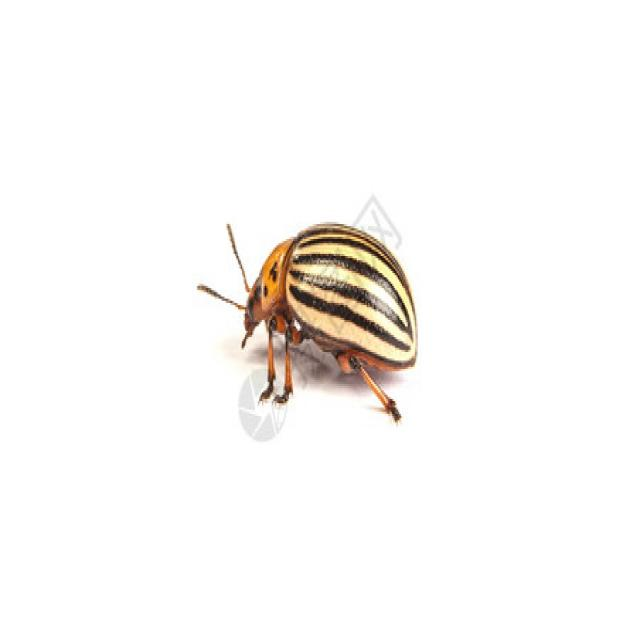ShuCaiHuaBanChong-Grown-: (232, 215, 438, 418)
